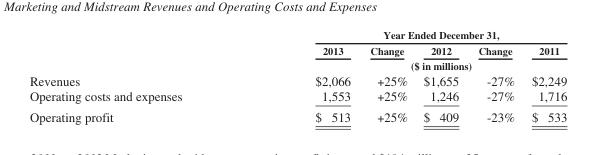table: (28, 28, 566, 123)
table column: (28, 28, 248, 123), (248, 28, 359, 123), (359, 28, 414, 123), (467, 28, 522, 123), (414, 28, 467, 123), (522, 28, 566, 123)
table column header: (28, 28, 566, 72)
table row: (28, 88, 566, 106), (28, 106, 566, 123), (28, 72, 566, 88), (28, 42, 566, 57), (28, 57, 566, 72), (28, 28, 566, 42)
table spanning cell: (248, 57, 566, 72), (248, 28, 566, 42)
